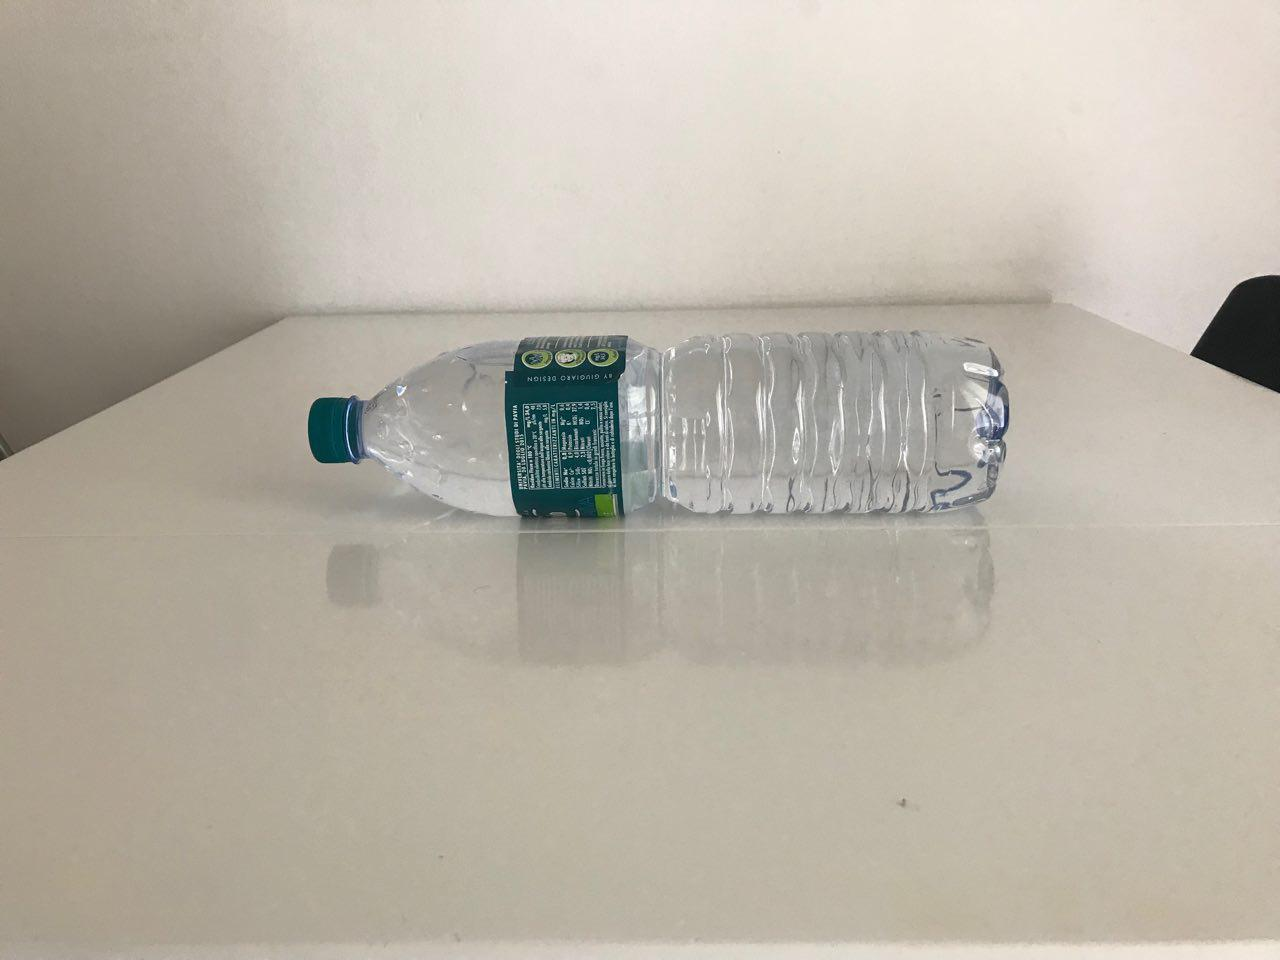san_bernardo: (306, 328, 1011, 520)
